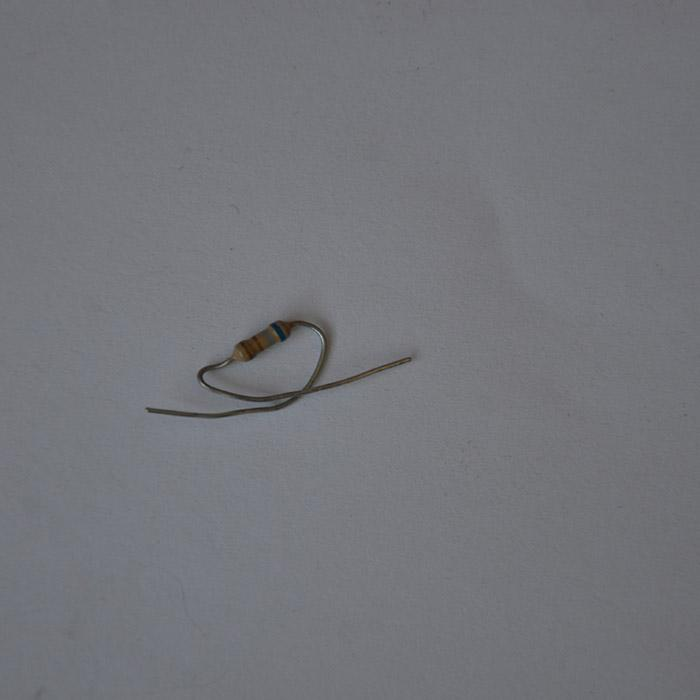resistor: (229, 320, 294, 363)
